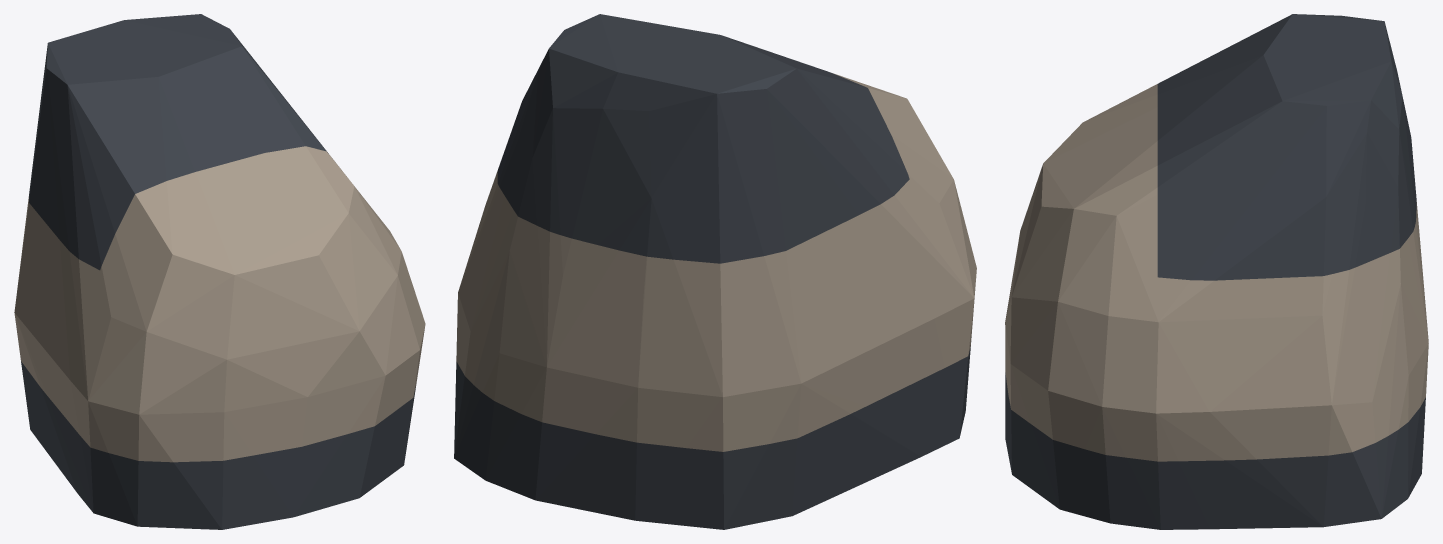
Rendered from boot_medium.glb.
The picture shows the model from 3 angles, left to right: view 1: azimuth 30°, elevation 25°; view 2: azimuth 150°, elevation 25°; view 3: azimuth 270°, elevation 25°; orthographic projection. The views are drawn at different scales.
Parts seen in each view (by area): view 1: boot_medium; view 2: boot_medium; view 3: boot_medium.
Part boxes in pixels (x1,y1,x2,y2): boot_medium: (14,14,425,529); boot_medium: (454,14,976,529); boot_medium: (1005,14,1428,529).
Size of the model in its own units: 1 by 1 by 1.
